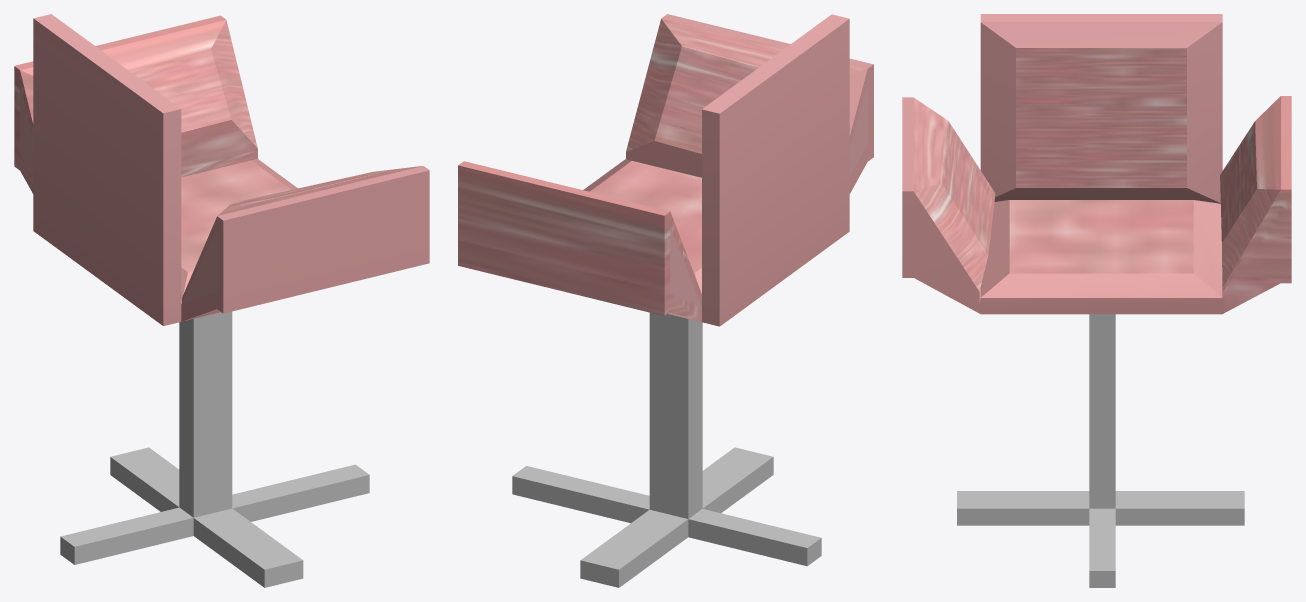
The model's file is deskChair.fbx.
3 renders of one model, left to right at view 1: azimuth 30°, elevation 25°; view 2: azimuth 150°, elevation 25°; view 3: azimuth 270°, elevation 25°, orthographic. The views are drawn at different scales.
Parts seen in each view (by area): view 1: chair, roleBit.001; view 2: chair, roleBit.001; view 3: chair, roleBit.001.
Boxes of the visible parts, x1=… form: chair: x1=14, y1=14, x2=429, y2=325; roleBit.001: x1=60, y1=311, x2=369, y2=587; chair: x1=458, y1=14, x2=873, y2=326; roleBit.001: x1=512, y1=312, x2=821, y2=587; chair: x1=902, y1=14, x2=1291, y2=314; roleBit.001: x1=957, y1=314, x2=1244, y2=587.
Size of the model in its own units: 114 by 179 by 139.
